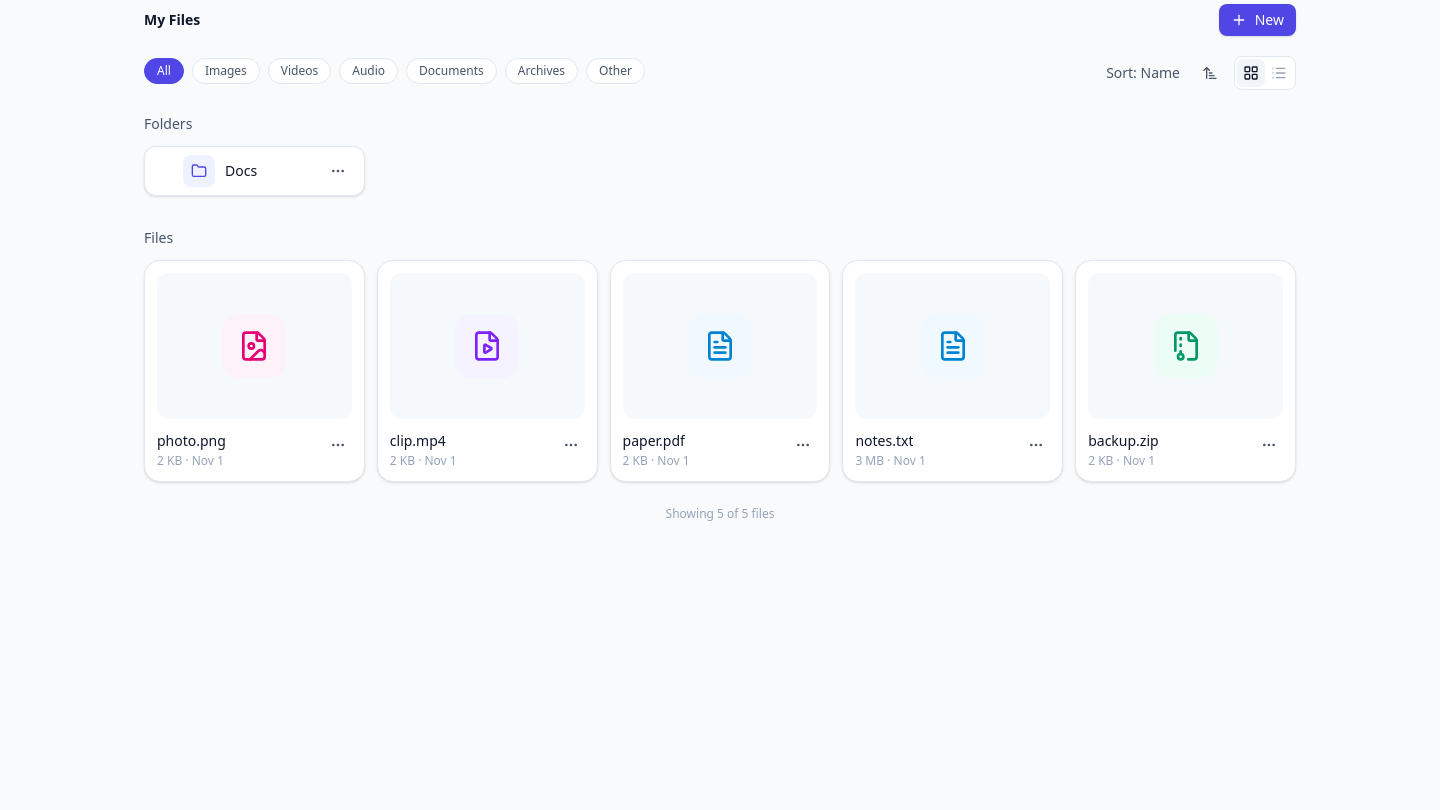
Test: preview › shows only the first 1 MB of text, asking the server for just that range
The image size is (1440, 810).
What coordinates should you click on to do the following:
click the button "notes.txt"
I would click on:
 (884, 441)
Its box is [855,431,913,451].
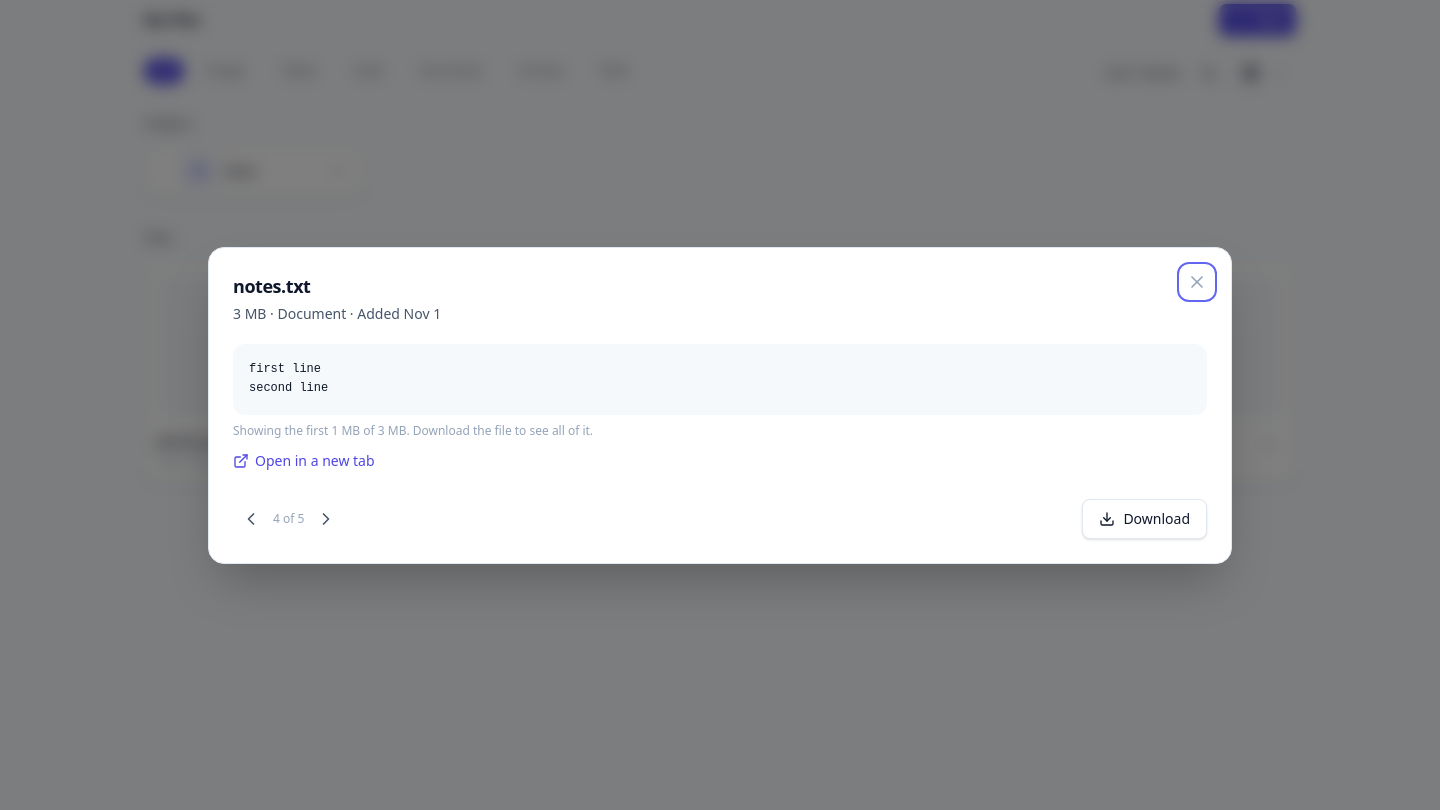
Now the dialog "notes.txt" shows "Showing the first 1 MB of 3 MB", box [208,246,1232,564]
